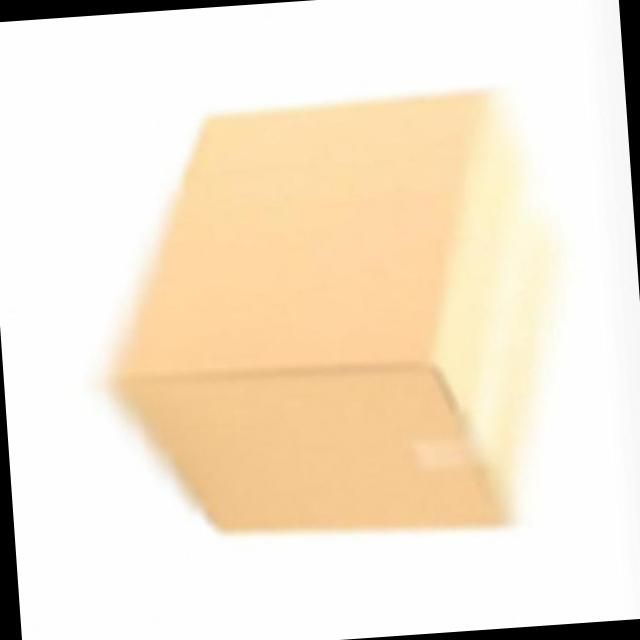box: (88, 83, 582, 562)
